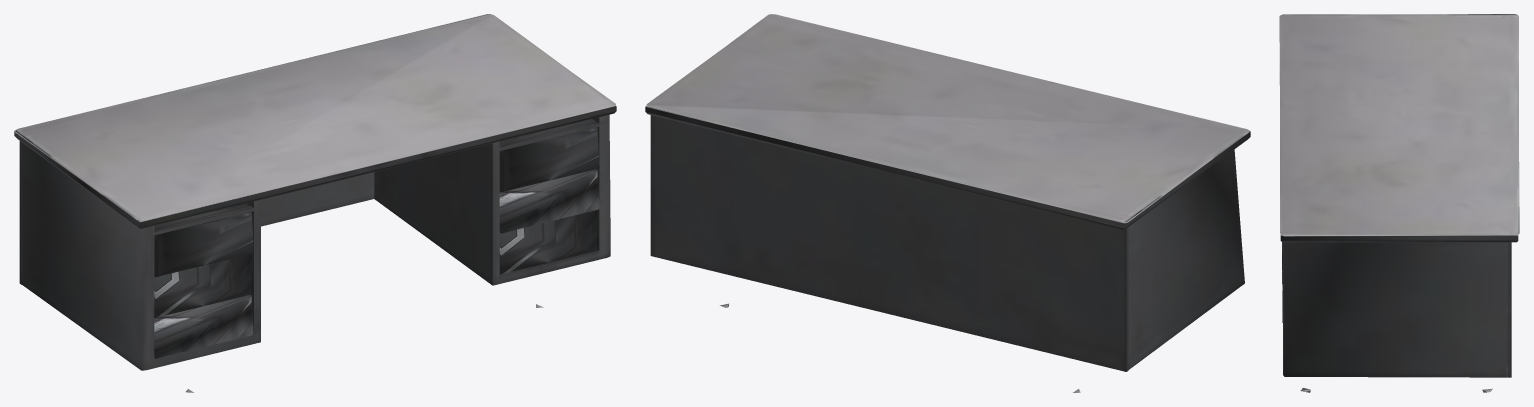
File: metal_office_desk_lod1.glb
3 views of the same model, side by side, from view 1: azimuth 30°, elevation 25°; view 2: azimuth 150°, elevation 25°; view 3: azimuth 270°, elevation 25° (orthographic). The views are drawn at different scales.
Parts seen in each view (by area): view 1: metal_office_desk, metal_office_desk_drawer_04, metal_office_desk_drawer_01, metal_office_desk_drawer_03, metal_office_desk_drawer_02, metal_office_desk_drawer_06, metal_office_desk_drawer_05, metal_office_desk_tray_01, metal_office_desk_tray_02; view 2: metal_office_desk; view 3: metal_office_desk.
Boxes of the visible parts, x1,y1,x2,y2 form: metal_office_desk: [14, 14, 616, 392]; metal_office_desk_drawer_04: [154, 212, 253, 277]; metal_office_desk_drawer_01: [499, 127, 599, 192]; metal_office_desk_drawer_03: [499, 210, 598, 274]; metal_office_desk_drawer_02: [499, 169, 599, 233]; metal_office_desk_drawer_06: [154, 294, 253, 358]; metal_office_desk_drawer_05: [154, 254, 253, 317]; metal_office_desk_tray_01: [154, 203, 252, 231]; metal_office_desk_tray_02: [499, 119, 597, 147]; metal_office_desk: [645, 14, 1250, 392]; metal_office_desk: [1279, 14, 1519, 392].
Size of the model in its own units: 1.99 by 0.7869 by 0.9129.
1 material, 1 textured.
